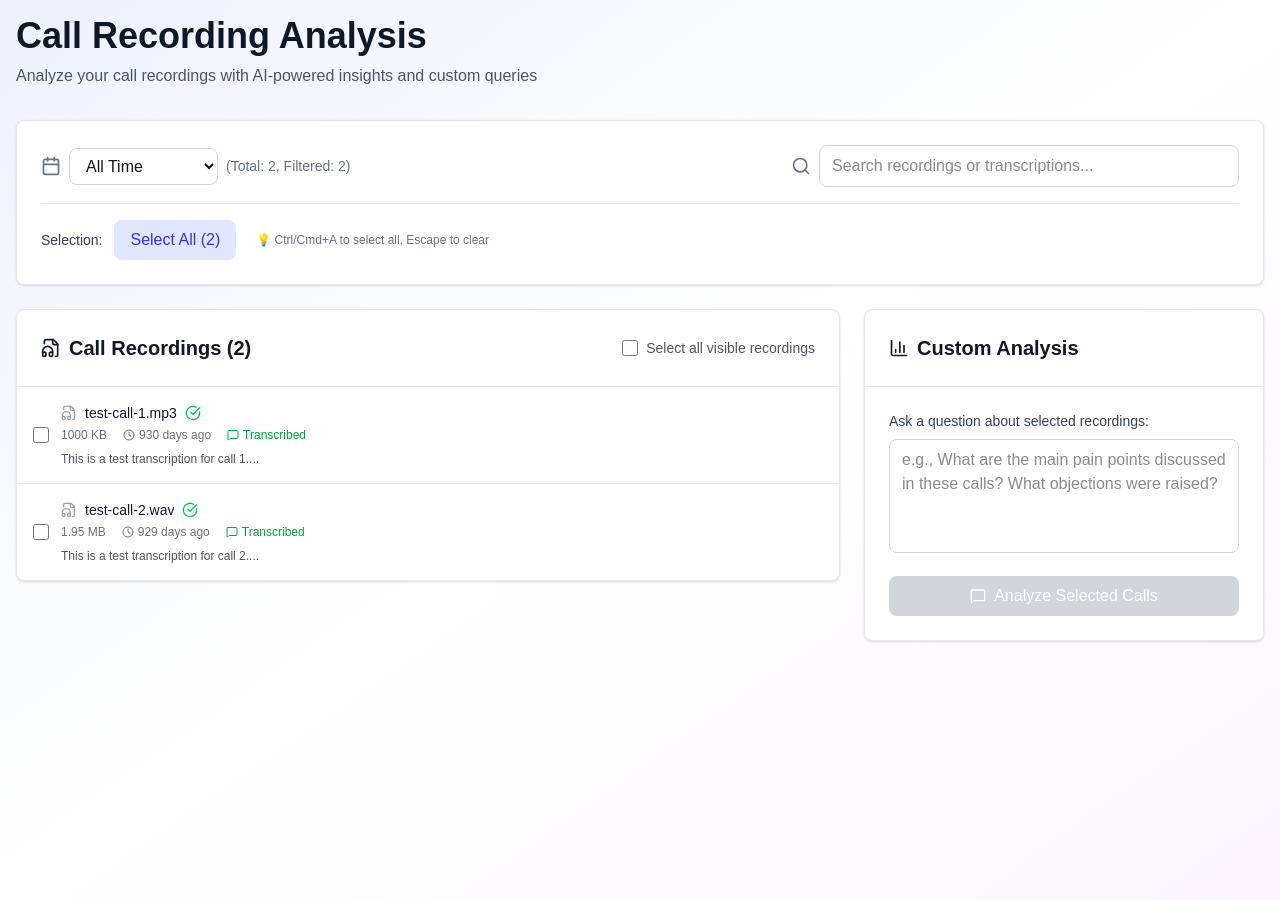
Test: CallAnalysisPage › handles select all functionality
Check: the heading "test-call-1.mp3" is shown, box [85,403,177,423]
Click the button "Select All (2)" at x=175, y=240, box [114,220,236,260]
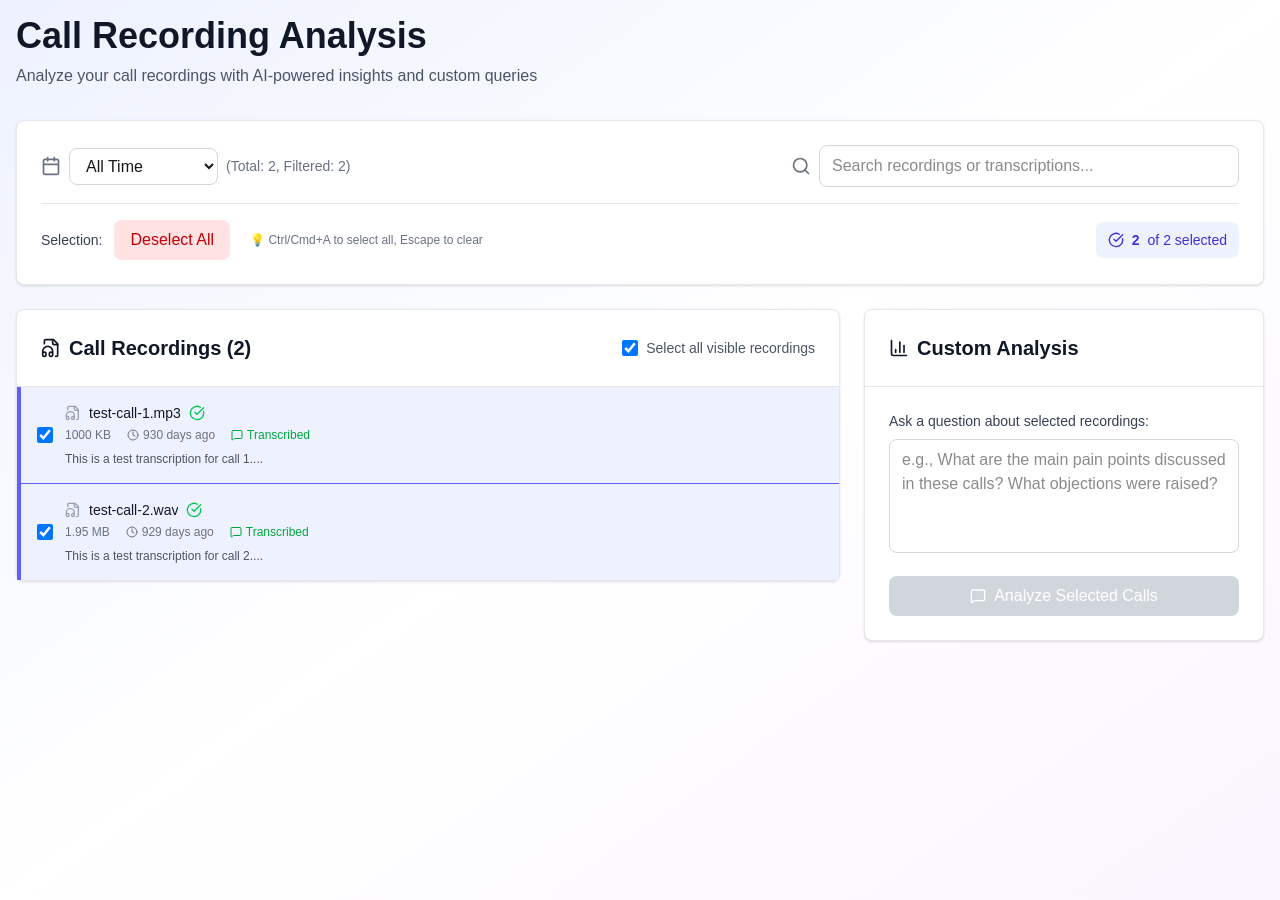
Check: the text "2 of 2 selected" is shown, box [1096,222,1239,258]
